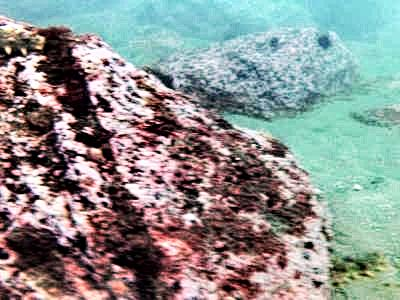urchin: (317, 34, 332, 54)
